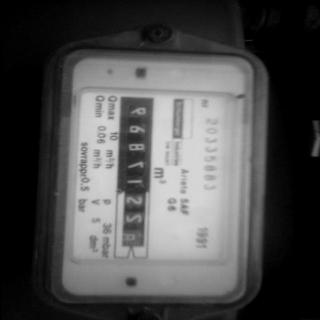2: (125, 176, 145, 188)
3: (123, 212, 143, 224), (125, 195, 144, 206)
7: (127, 123, 147, 135)
8: (126, 160, 146, 170)
9: (119, 232, 139, 244), (127, 142, 146, 152)
:: (129, 107, 148, 118)
